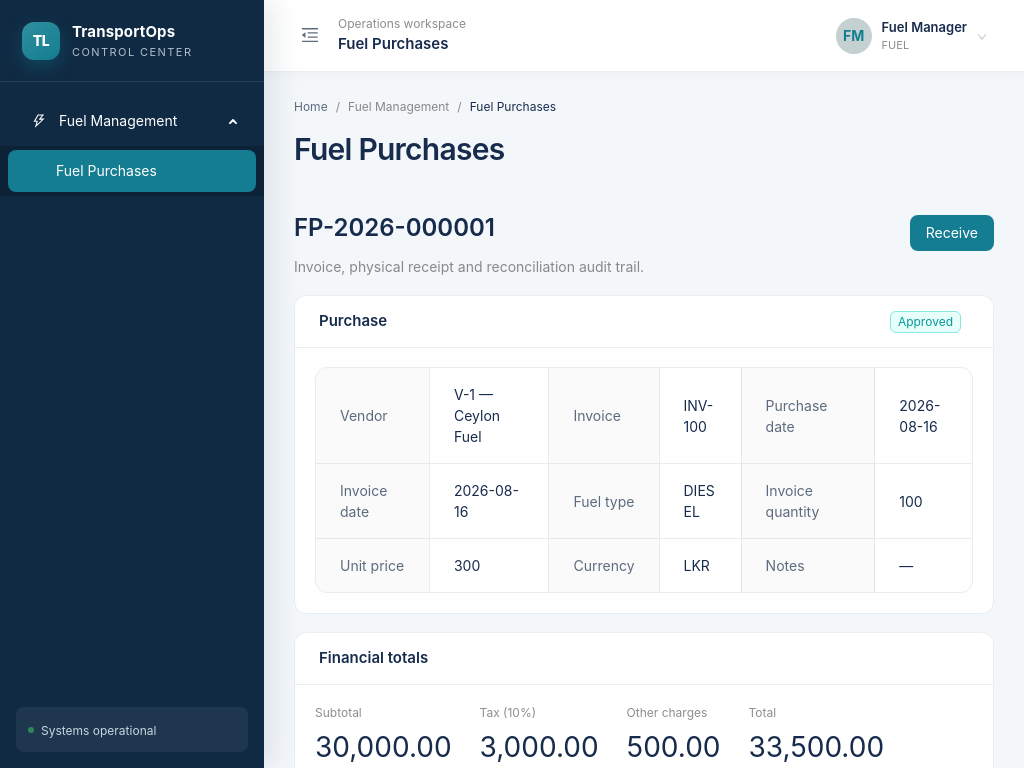
Fuel purchase pages › shows receipt quantity variance in the receive modal
Click the button "Receive" at (952, 232), box [910, 214, 994, 250]
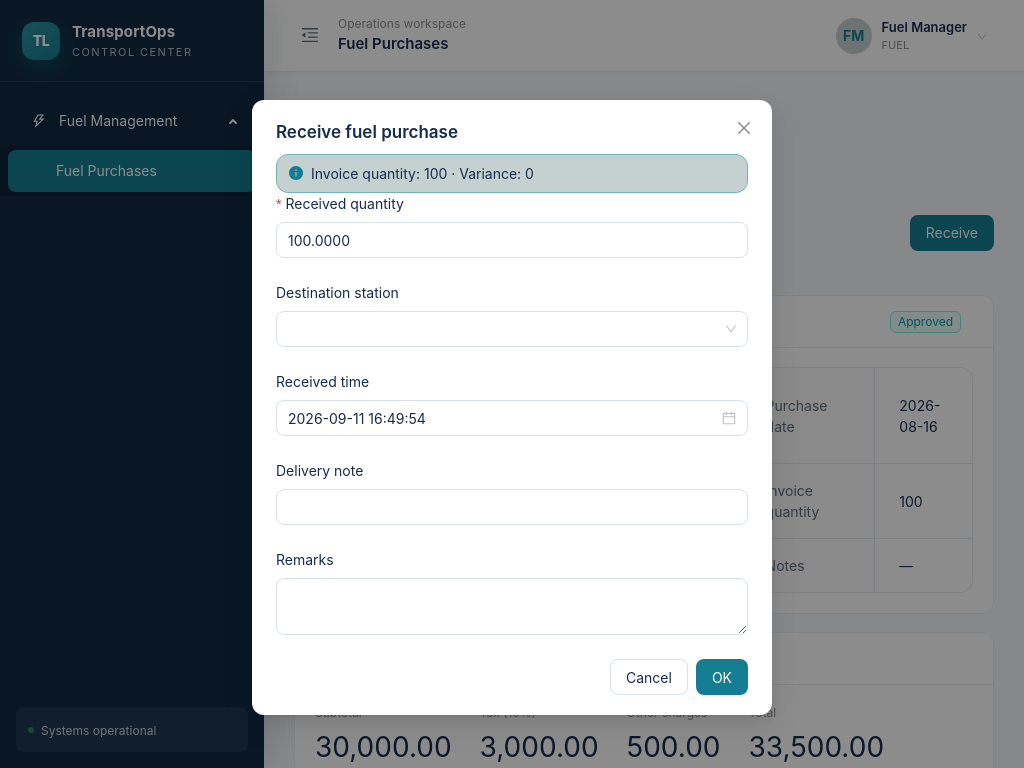
Expected: the text "Invoice quantity: 100 · Variance: 0" is shown, [311, 164, 534, 182]
